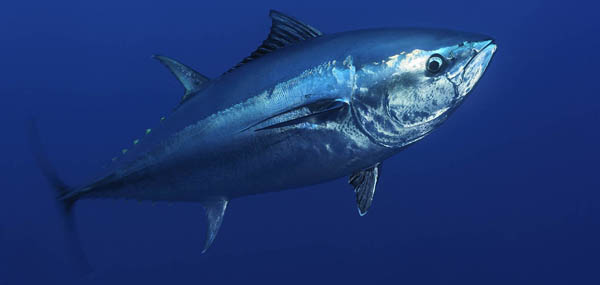Bluefina Tuna: (36, 6, 501, 258)
